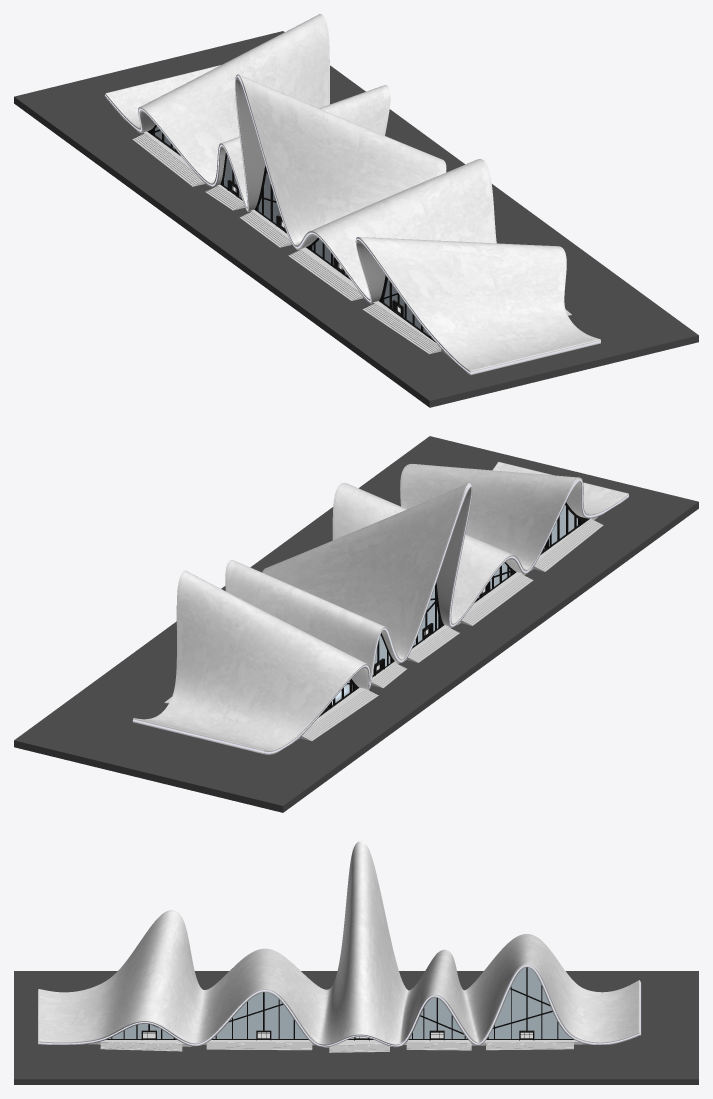
3 renders of one model, top to bottom at view 1: azimuth 30°, elevation 25°; view 2: azimuth 150°, elevation 25°; view 3: azimuth 270°, elevation 25°, orthographic. The views are drawn at different scales.
Parts seen in each view (by area): view 1: SM_LCB_9; view 2: SM_LCB_9; view 3: SM_LCB_9.
Part boxes in pixels (<box>): SM_LCB_9: <box>14,14,698,407</box>; SM_LCB_9: <box>14,436,698,812</box>; SM_LCB_9: <box>14,841,698,1084</box>.
Size of the model in its own units: 13582 by 8409 by 36340.
Materials: 6 (2 with a texture image).
